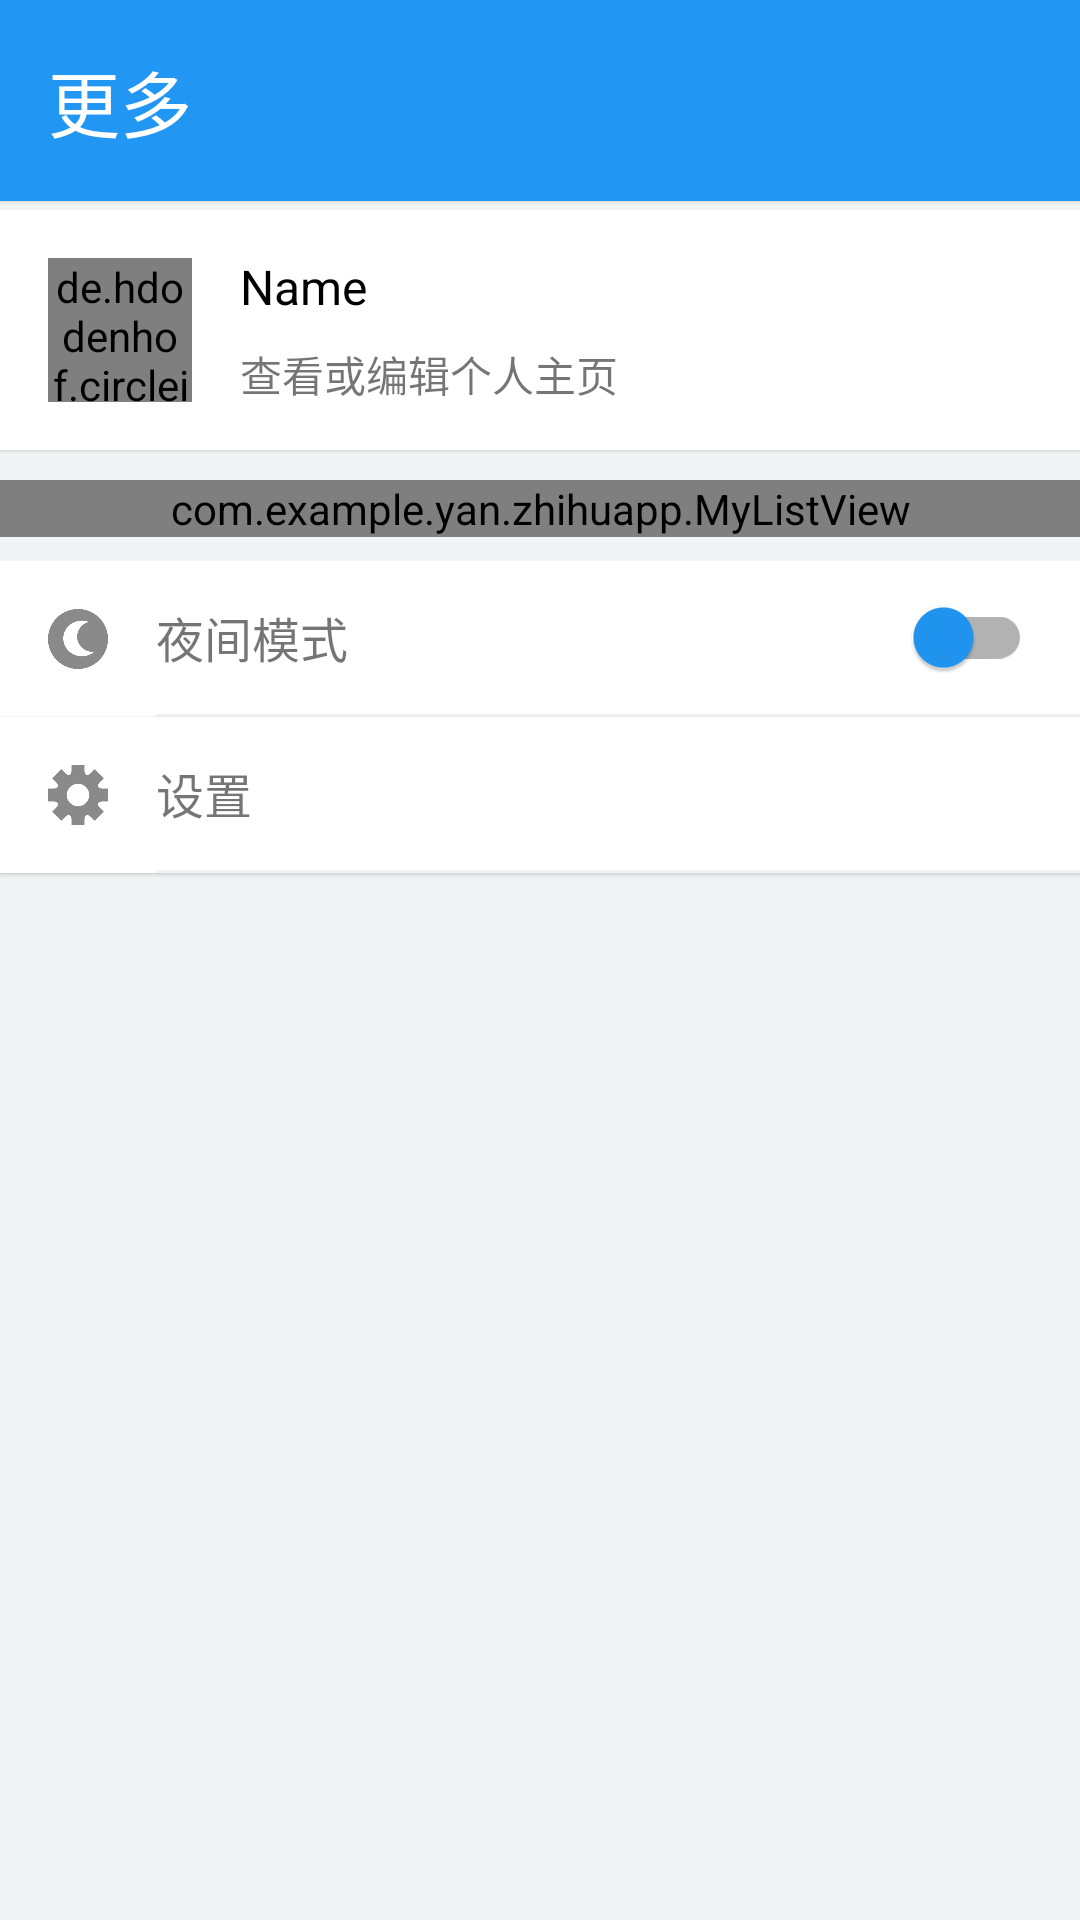

Icon bounding boxes for this 1080w x 1920h phone screenshot, format (x1, y1, x2, y2):
mynight: (48, 609, 108, 669)
mysetting: (48, 765, 108, 825)
